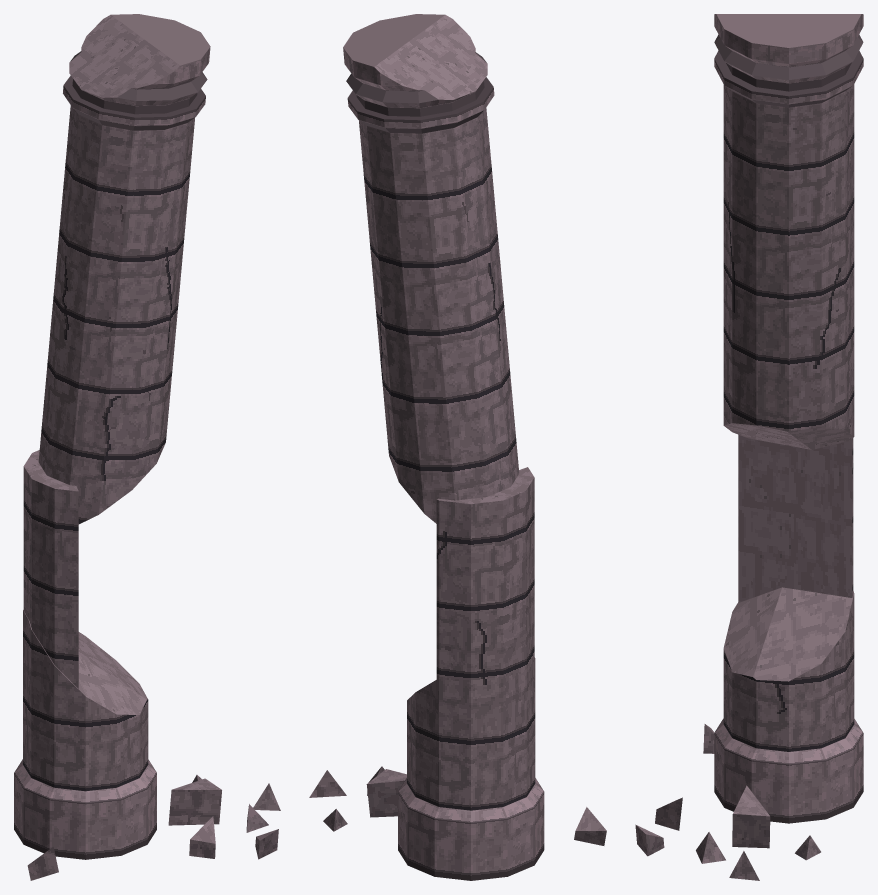
File: saeule_z2_treffer2.glb
3 renders of one model, left to right at view 1: azimuth 30°, elevation 25°; view 2: azimuth 150°, elevation 25°; view 3: azimuth 270°, elevation 25°, orthographic. The views are drawn at different scales.
Visible parts, largest first — view 1: saeule_z2_treffer2; view 2: saeule_z2_treffer2; view 3: saeule_z2_treffer2.
Part boxes in pixels (x1,y1,x2,y2): saeule_z2_treffer2: (14,14,280,880); saeule_z2_treffer2: (309,14,606,880); saeule_z2_treffer2: (635,14,863,880).
Size of the model in its own units: 2.16 by 5.99 by 1.53.
1 material, 1 textured.
